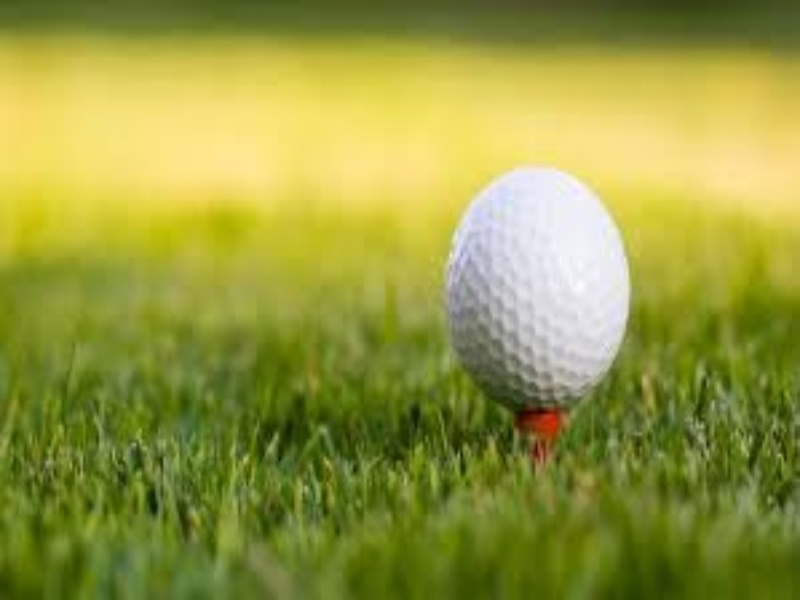golf_ball: (448, 167, 630, 413)
